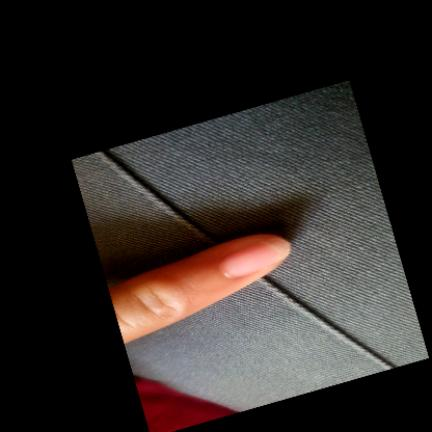Nail: (222, 237, 291, 277)
